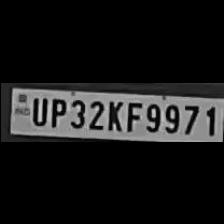1: (200, 102, 218, 136)
2: (86, 96, 104, 130)
3: (66, 96, 84, 128)
7: (180, 100, 198, 134)
9: (160, 101, 180, 133), (142, 100, 160, 132)
F: (122, 98, 140, 132)
K: (104, 97, 122, 130)
P: (46, 94, 66, 126)
U: (28, 94, 46, 125)
